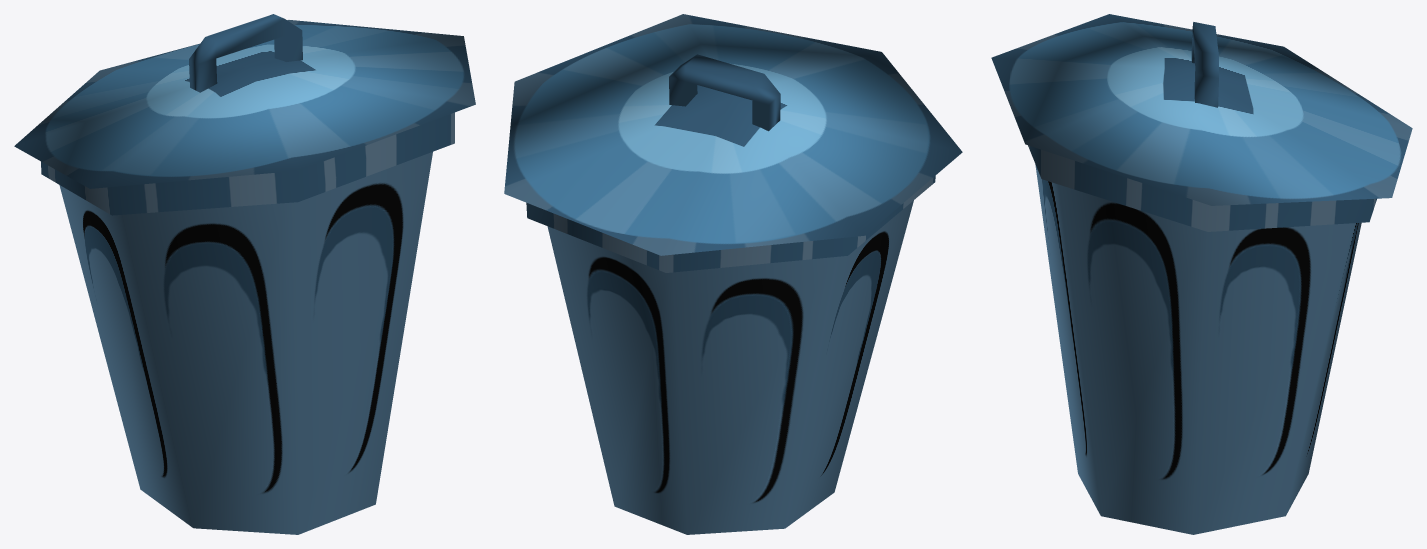
The model's file is TrashCan.fbx.
3 renders of one model, left to right at view 1: azimuth 30°, elevation 25°; view 2: azimuth 150°, elevation 25°; view 3: azimuth 270°, elevation 25°, orthographic. The views are drawn at different scales.
Parts seen in each view (by area): view 1: TODOS:TrashCan2_2:TrashCan1:pCylinder1, polySurface2; view 2: polySurface2, TODOS:TrashCan2_2:TrashCan1:pCylinder1; view 3: TODOS:TrashCan2_2:TrashCan1:pCylinder1, polySurface2.
Part boxes in pixels (x1,y1,x2,y2): TODOS:TrashCan2_2:TrashCan1:pCylinder1: (59,152,432,534); polySurface2: (14,14,475,215); polySurface2: (504,14,962,272); TODOS:TrashCan2_2:TrashCan1:pCylinder1: (547,200,913,534); TODOS:TrashCan2_2:TrashCan1:pCylinder1: (1035,164,1361,534); polySurface2: (991,14,1412,231).
Size of the model in its own units: 4.63 by 4.77 by 4.09.
